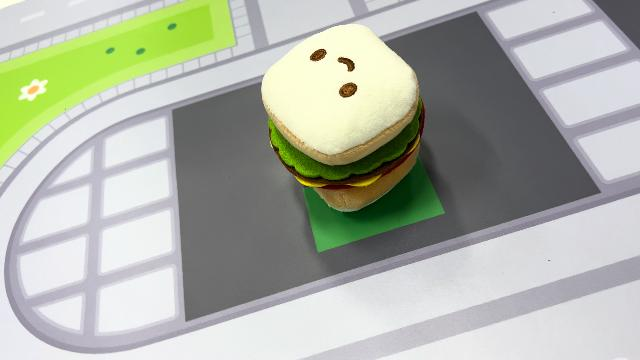sandwich: (258, 21, 428, 213)
